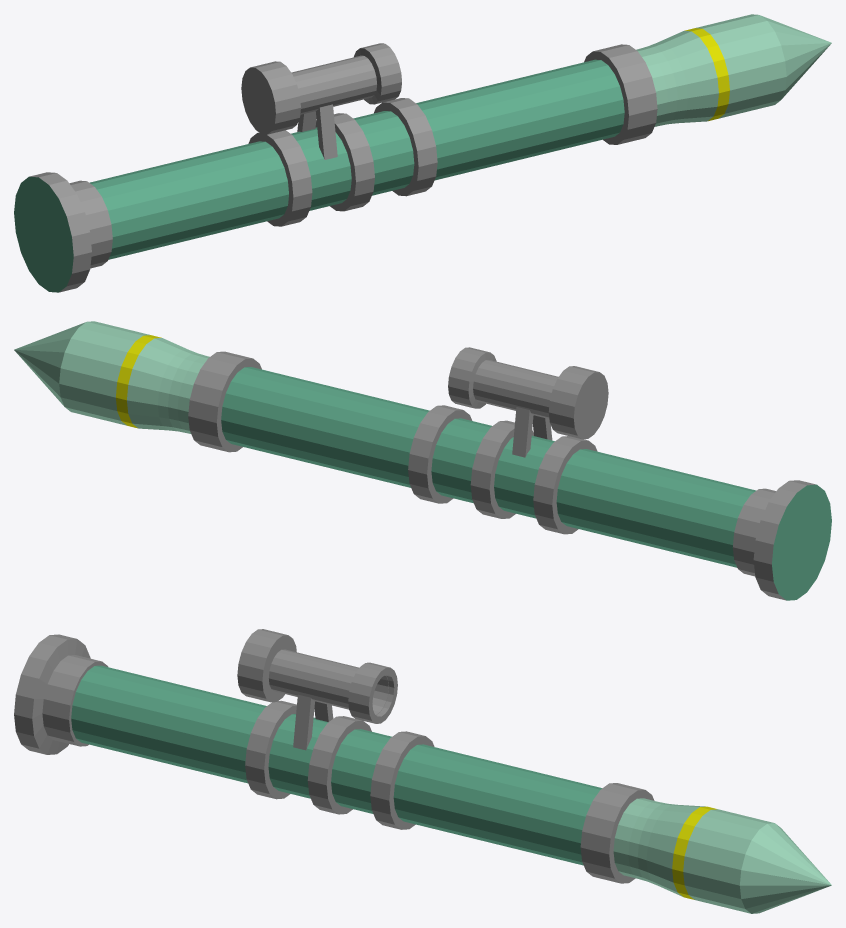
The model's file is w_launcher.glb.
3 views of the same model, one above another, from view 1: azimuth 30°, elevation 25°; view 2: azimuth 150°, elevation 25°; view 3: azimuth 330°, elevation 25° (orthographic).
Parts seen in each view (by area): view 1: hull; view 2: hull; view 3: hull.
Part boxes in pixels (box(x1,y1,x2,y2)): hull: box(14, 14, 831, 292); hull: box(14, 321, 831, 600); hull: box(14, 629, 831, 913).
Size of the model in its own units: 1 by 0.2035 by 0.1318.
